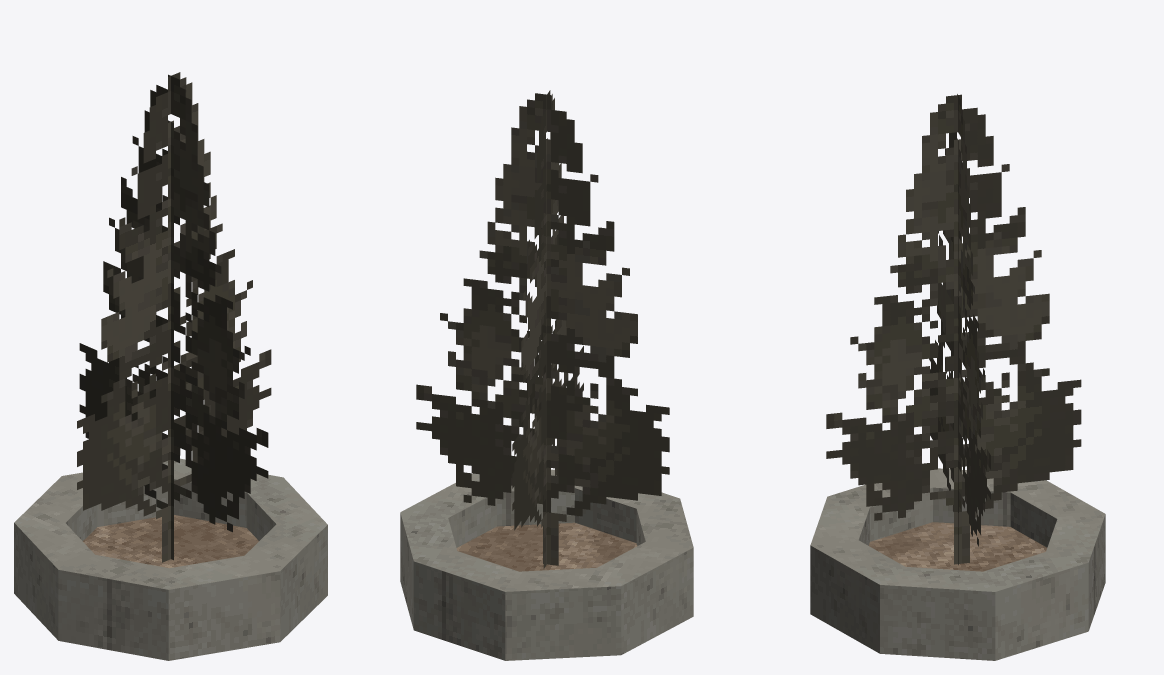
The model's file is procgen-procpain-tree-park-pine-large-x2z2.obj.
3 renders of one model, left to right at view 1: azimuth 30°, elevation 25°; view 2: azimuth 150°, elevation 25°; view 3: azimuth 270°, elevation 25°, orthographic. The views are drawn at different scales.
Size of the model in its own units: 7.08 by 10.26 by 7.08.
